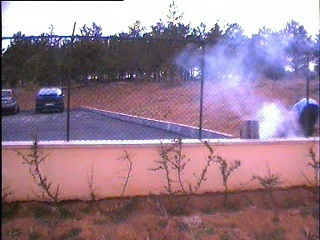smoke: (191, 27, 298, 139)
